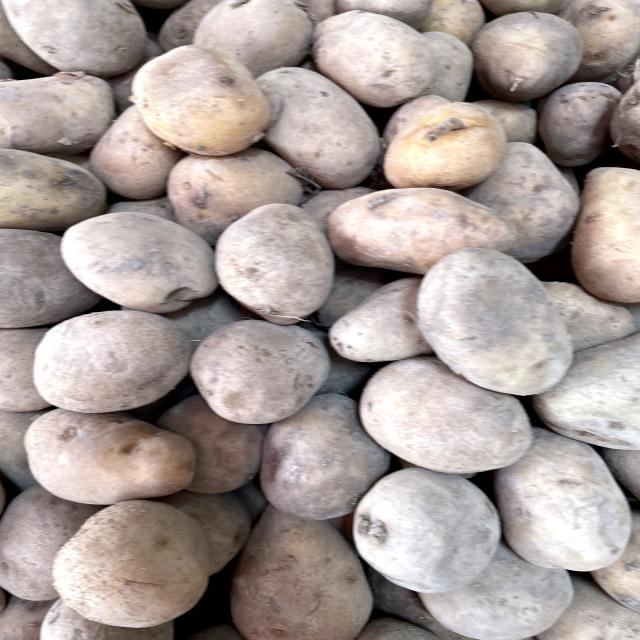potato: (37, 495, 224, 634), (419, 241, 576, 399), (217, 489, 376, 640), (21, 303, 216, 407), (18, 405, 214, 505), (52, 202, 220, 317), (318, 182, 526, 268), (130, 38, 270, 162), (212, 192, 340, 322), (369, 95, 508, 195), (304, 6, 439, 103)
